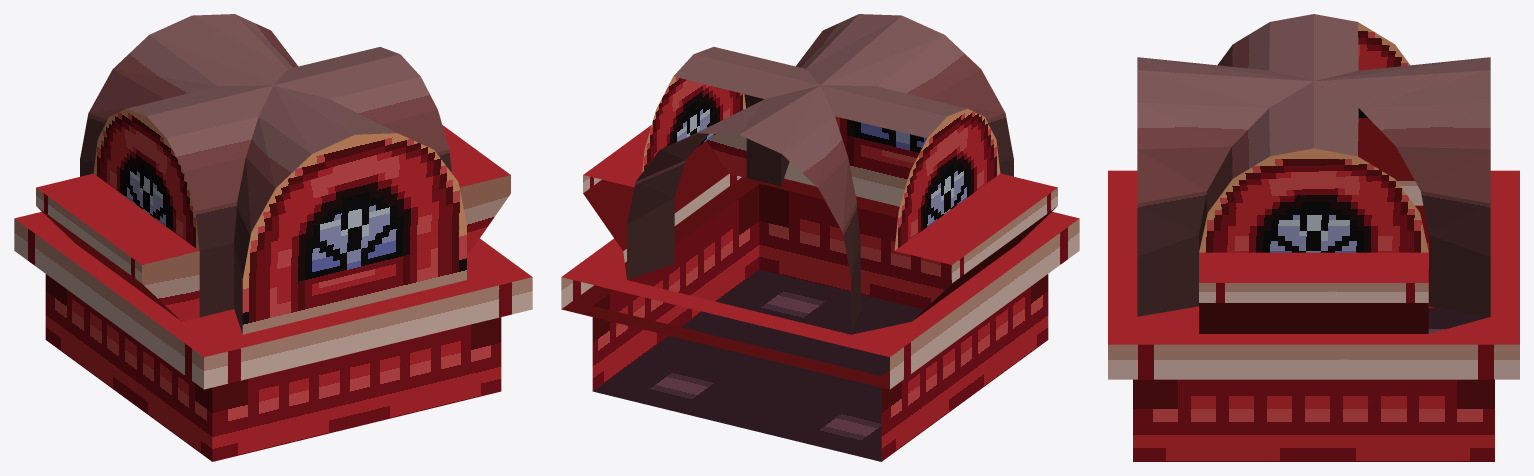
Rendered from top_2.obj.
3 views of the same model, side by side, from view 1: azimuth 30°, elevation 25°; view 2: azimuth 150°, elevation 25°; view 3: azimuth 270°, elevation 25° (orthographic). The views are drawn at different scales.
Parts seen in each view (by area): view 1: top_2_part0; view 2: top_2_part0, top_2_part1; view 3: top_2_part0, top_2_part1.
Boxes of the visible parts, x1,y1,x2,y2 form: top_2_part0: [14, 14, 532, 461]; top_2_part0: [561, 14, 1079, 461]; top_2_part1: [593, 269, 923, 461]; top_2_part0: [1108, 14, 1519, 461]; top_2_part1: [1428, 309, 1490, 333].
Size of the model in its own units: 327 by 246 by 291.
Materials: 2 (2 with a texture image).
